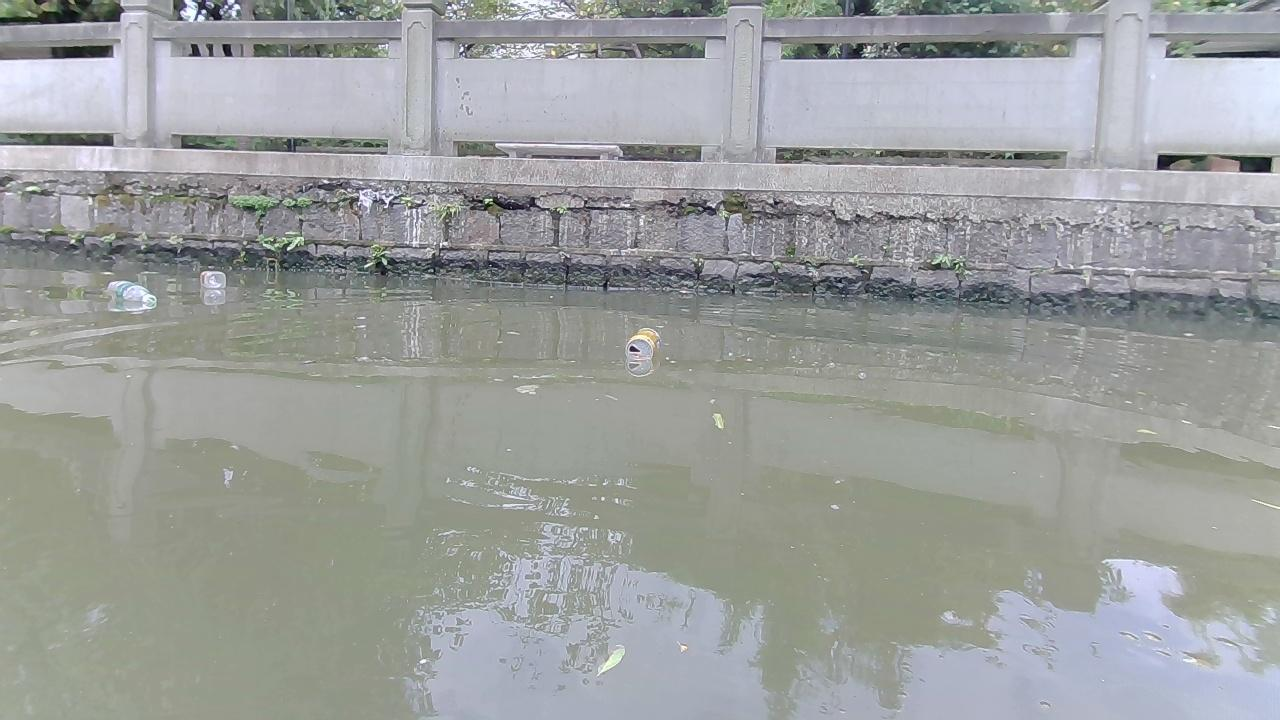bottle: (622, 327, 661, 360), (105, 279, 155, 303), (198, 269, 225, 288)
